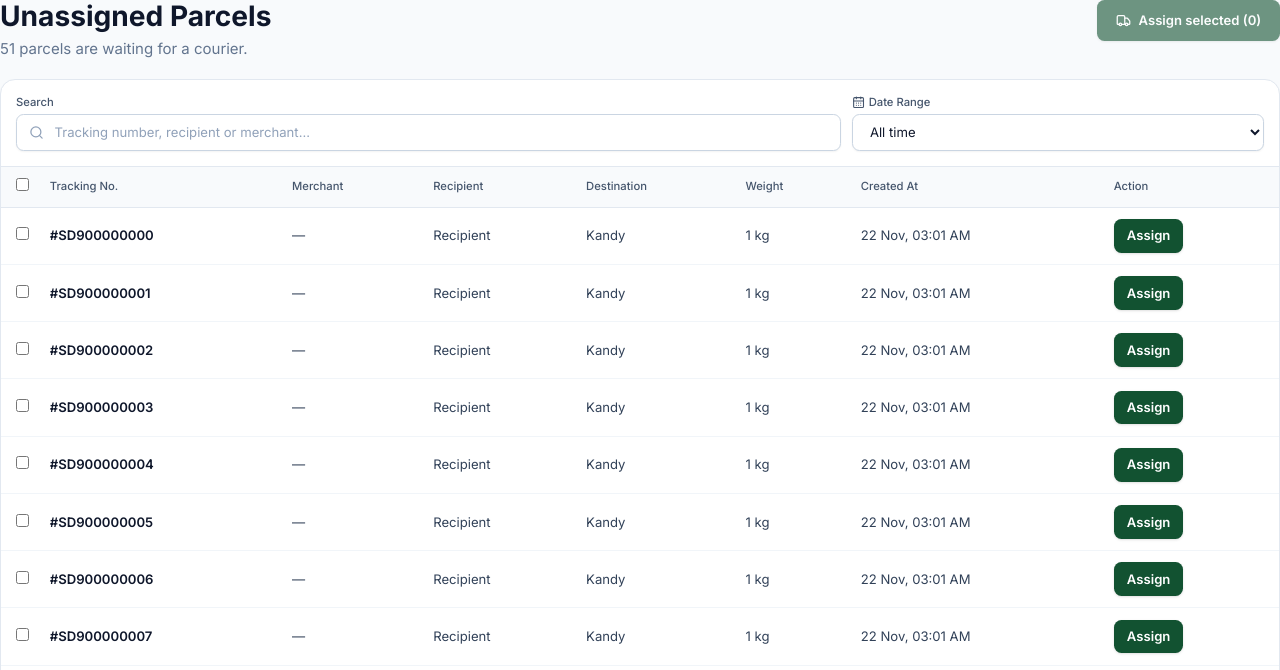
it: UnassignedParcelsPage (mock API) › allows at most 50 parcels per bulk assignment
Click the checkbox named "Select all parcels on this page" at (22, 185), box [16, 178, 29, 191]
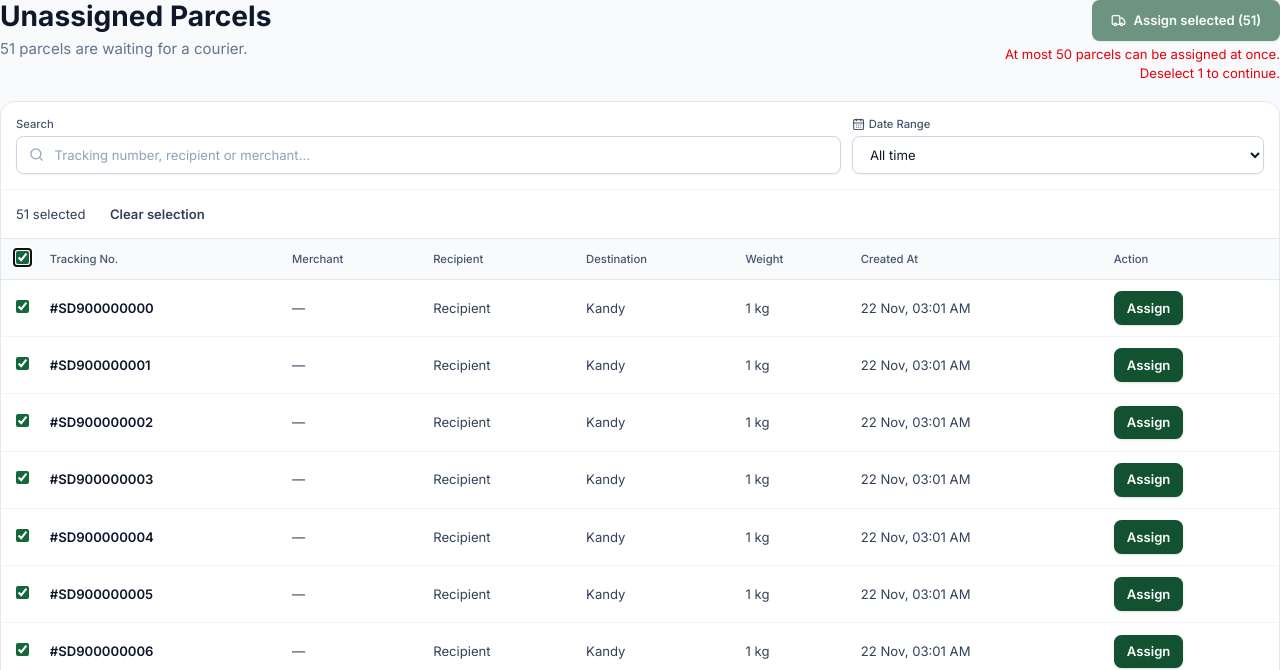
Expected: the button "Assign selected (51)" is disabled, [1092, 0, 1279, 41]
Expected: the text "At most 50 parcels can be assigned at once. Deselect 1 to continue." is shown, [980, 45, 1279, 82]
Click the checkbox named "Select #SD900000000" at (22, 306), box [16, 300, 29, 312]
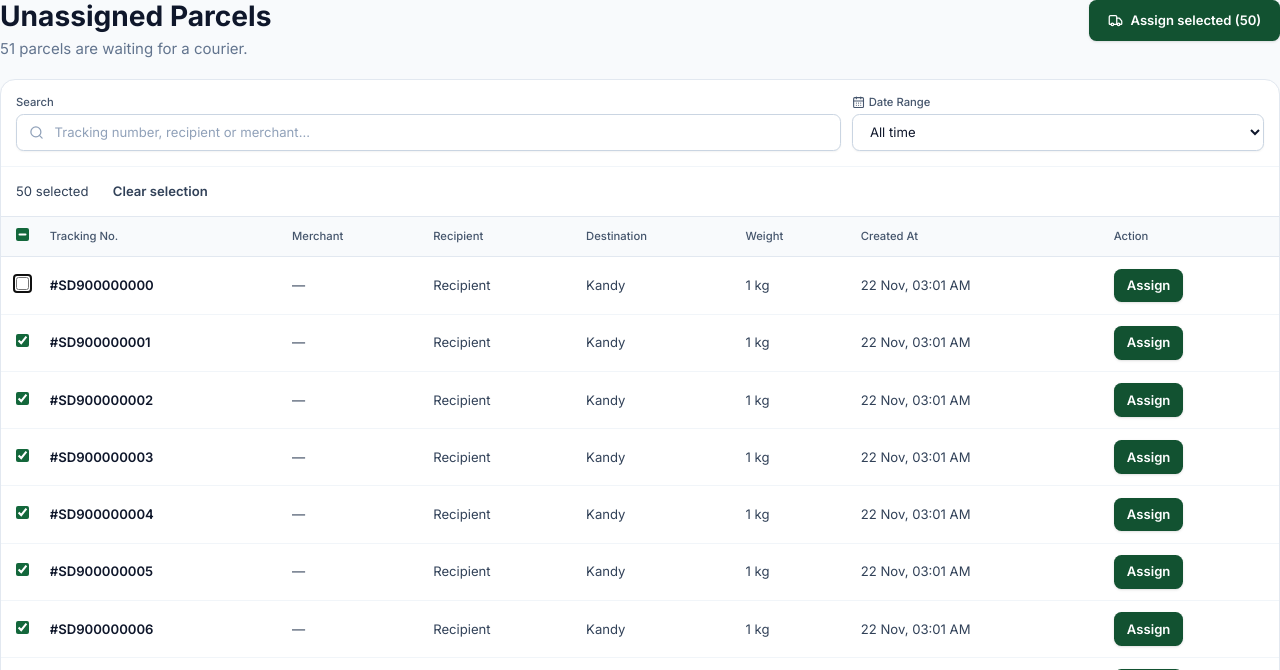
Expected: the button "Assign selected (50)" is enabled, [1089, 0, 1279, 41]
